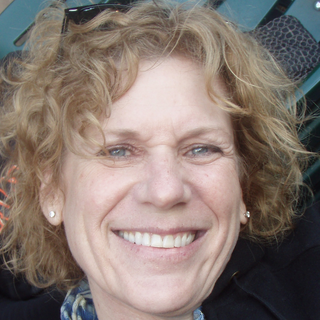eye: (94, 140, 144, 164), (175, 140, 224, 163)
